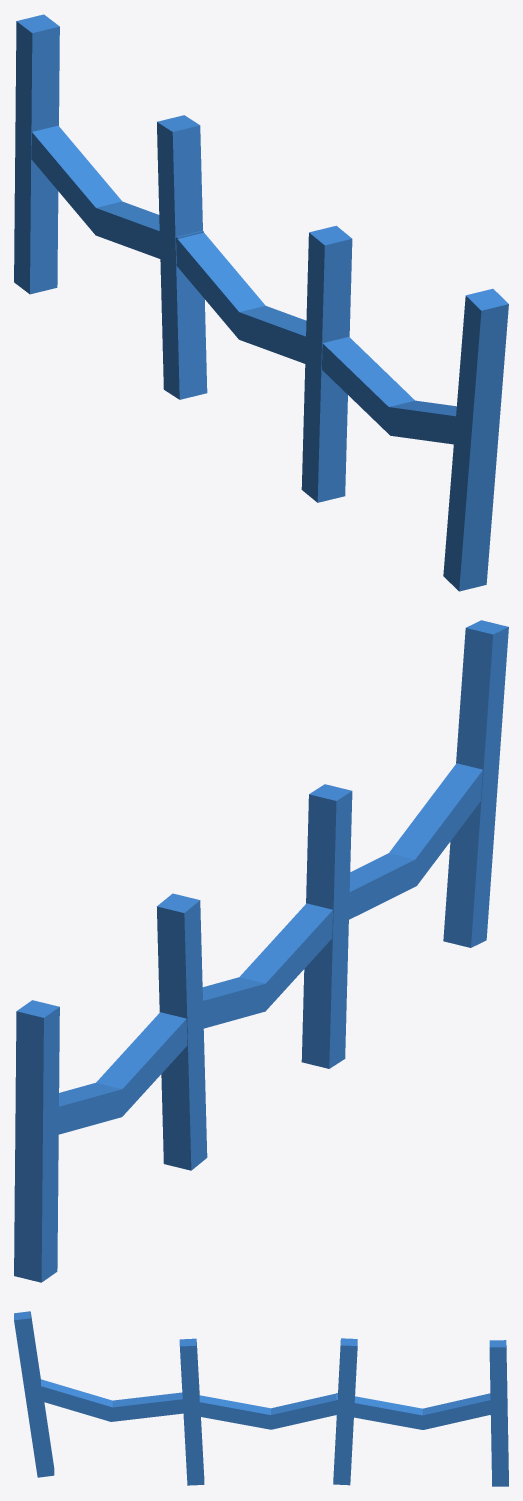
Rendered from Collision_Roof_Spikes5.fbx.
The picture shows the model from 3 angles, top to bottom: view 1: azimuth 30°, elevation 25°; view 2: azimuth 150°, elevation 25°; view 3: azimuth 270°, elevation 25°; orthographic projection. The views are drawn at different scales.
Visible parts, largest first — view 1: UCX_Roof_Spikes5_01; view 2: UCX_Roof_Spikes5_01; view 3: UCX_Roof_Spikes5_01.
Part boxes in pixels (bbox=[...]): UCX_Roof_Spikes5_01: bbox=[14, 14, 508, 591]; UCX_Roof_Spikes5_01: bbox=[14, 620, 508, 1282]; UCX_Roof_Spikes5_01: bbox=[14, 1311, 508, 1486].
Bounding box in the file's own units: 14.41 × 159 × 423.
